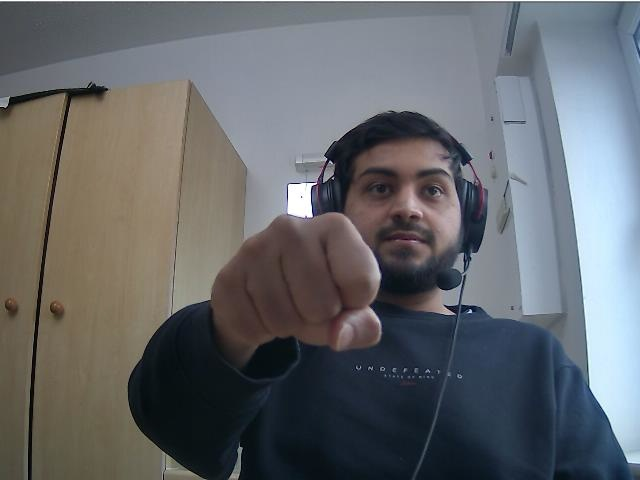hold: (210, 211, 383, 352)
